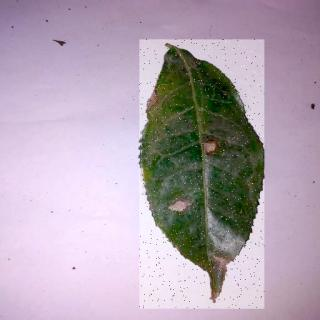Anthracnose: (141, 41, 266, 310)
